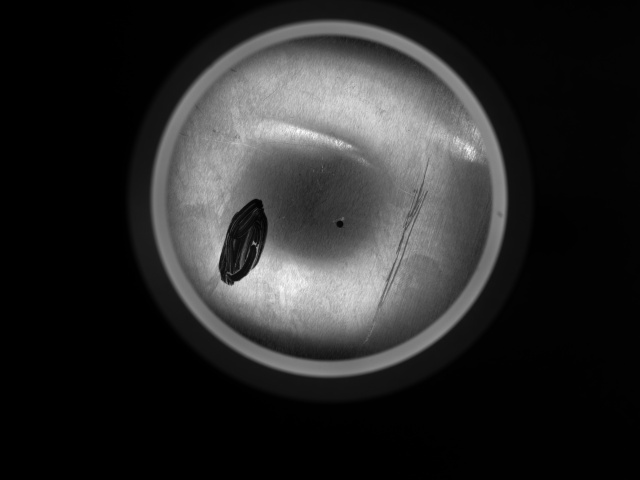ca_shang: (357, 150, 432, 348)
zang_wu: (216, 196, 272, 287)
zhen_kong: (333, 215, 347, 231)
